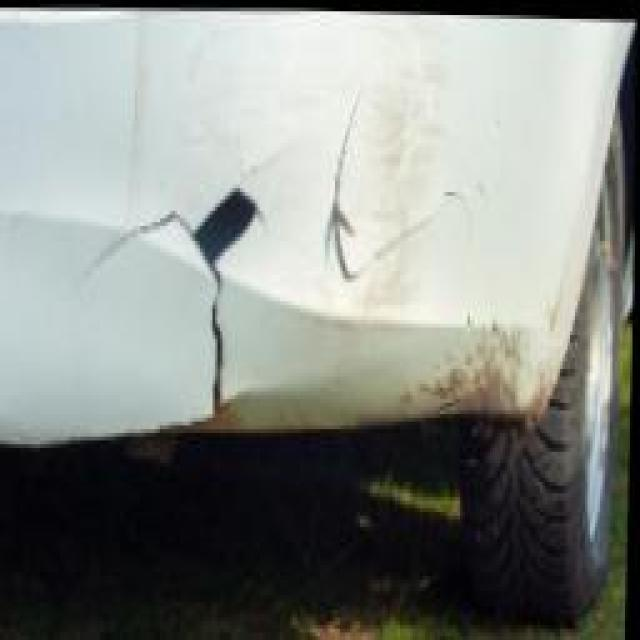Bumper: (80, 34, 555, 453)
